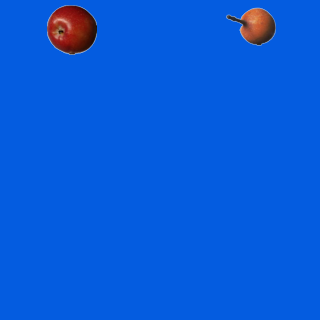Apple Braeburn: (46, 4, 96, 54)
Granadilla: (225, 1, 275, 51)
